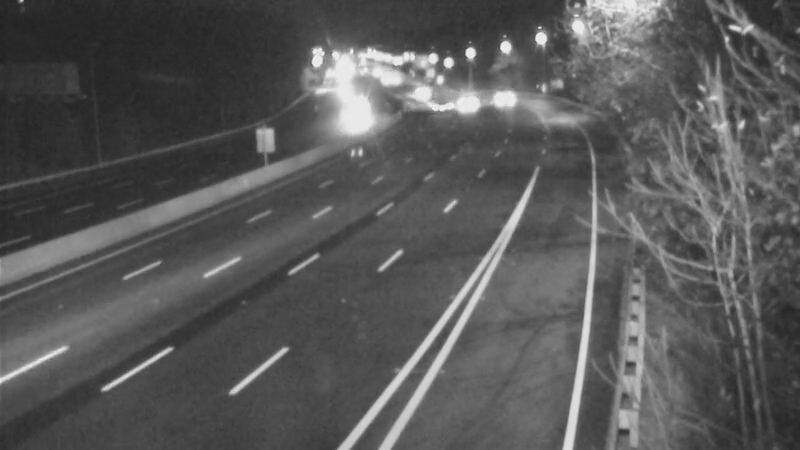vehicle: (415, 68, 465, 118), (438, 78, 488, 128), (470, 70, 520, 120), (331, 89, 381, 139)
